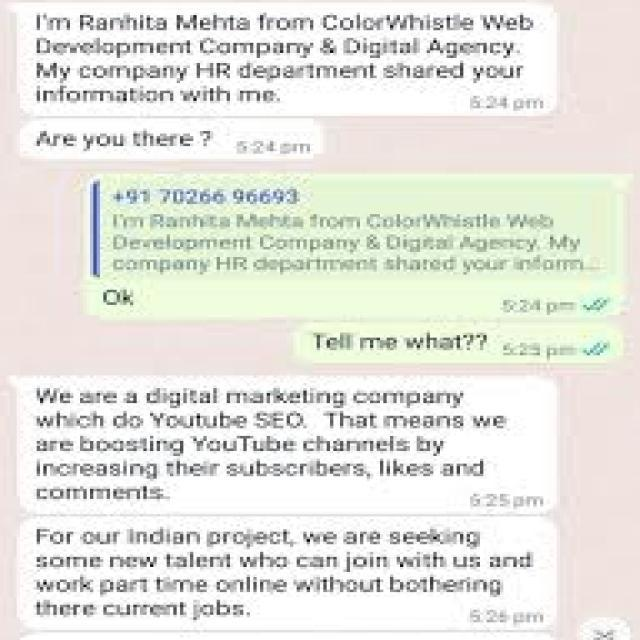scam: (25, 378, 554, 508), (19, 5, 540, 114), (25, 518, 546, 622), (31, 120, 219, 156)
